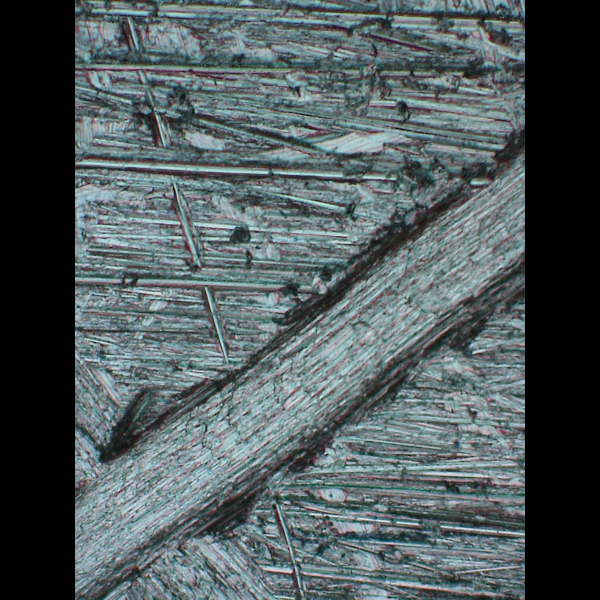d: (75, 113, 522, 600)
